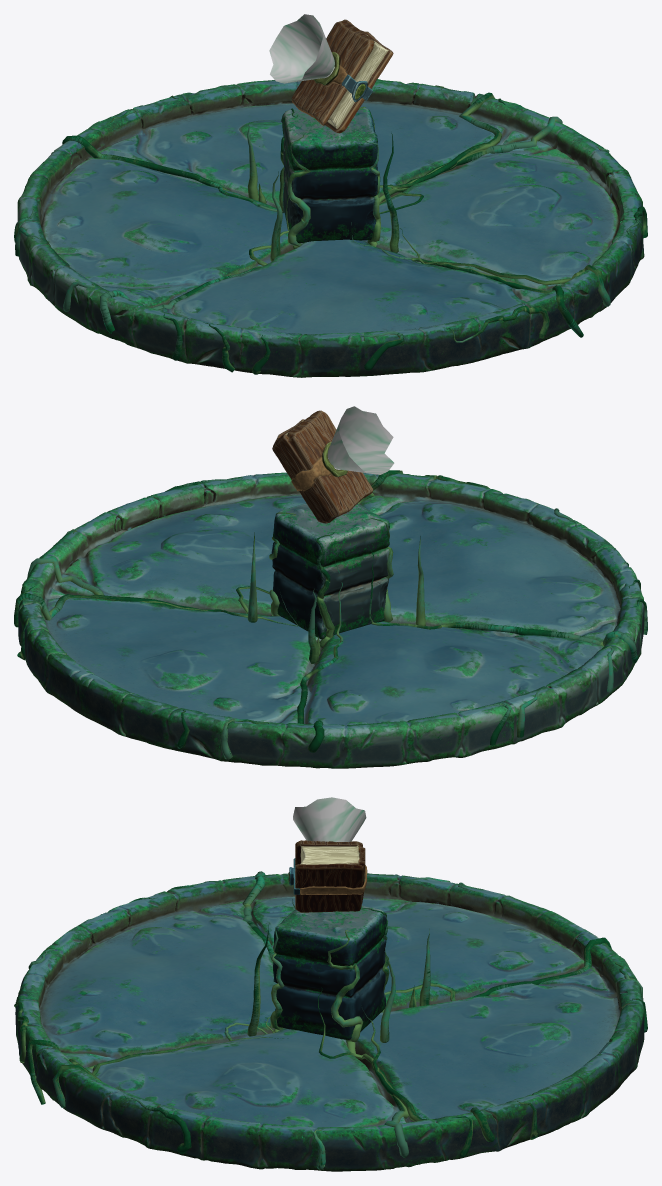
Rendered from book.fbx.
The picture shows the model from 3 angles, top to bottom: view 1: azimuth 30°, elevation 25°; view 2: azimuth 150°, elevation 25°; view 3: azimuth 270°, elevation 25°; orthographic projection.
Parts seen in each view (by area): view 1: Cylinder.001, tentacles_base, stand_hi.001, Cube.006, Cylinder.002; view 2: Cylinder.001, stand_hi.001, tentacles_base, Cube.006, Cylinder.002, Plane.003; view 3: Cylinder.001, stand_hi.001, tentacles_base, Cube.006, Cylinder.002, Plane.003.
Part boxes in pixels (x1=…): Cylinder.001: x1=17, y1=79, x2=644, y2=377; tentacles_base: x1=14, y1=85, x2=647, y2=374; stand_hi.001: x1=282, y1=107, x2=377, y2=243; Cube.006: x1=291, y1=19, x2=393, y2=133; Cylinder.002: x1=269, y1=14, x2=334, y2=83; Cylinder.001: x1=18, y1=472, x2=644, y2=768; stand_hi.001: x1=271, y1=503, x2=389, y2=639; tentacles_base: x1=14, y1=470, x2=647, y2=759; Cube.006: x1=272, y1=410, x2=373, y2=523; Cylinder.002: x1=327, y1=406, x2=394, y2=474; Plane.003: x1=291, y1=457, x2=331, y2=491; Cylinder.001: x1=15, y1=873, x2=644, y2=1171; stand_hi.001: x1=273, y1=905, x2=386, y2=1039; tentacles_base: x1=14, y1=871, x2=647, y2=1169; Cube.006: x1=295, y1=840, x2=365, y2=912; Cylinder.002: x1=293, y1=797, x2=366, y2=841; Plane.003: x1=300, y1=865, x2=367, y2=894.
Bounding box in the file's own units: 974 × 417 × 970.
